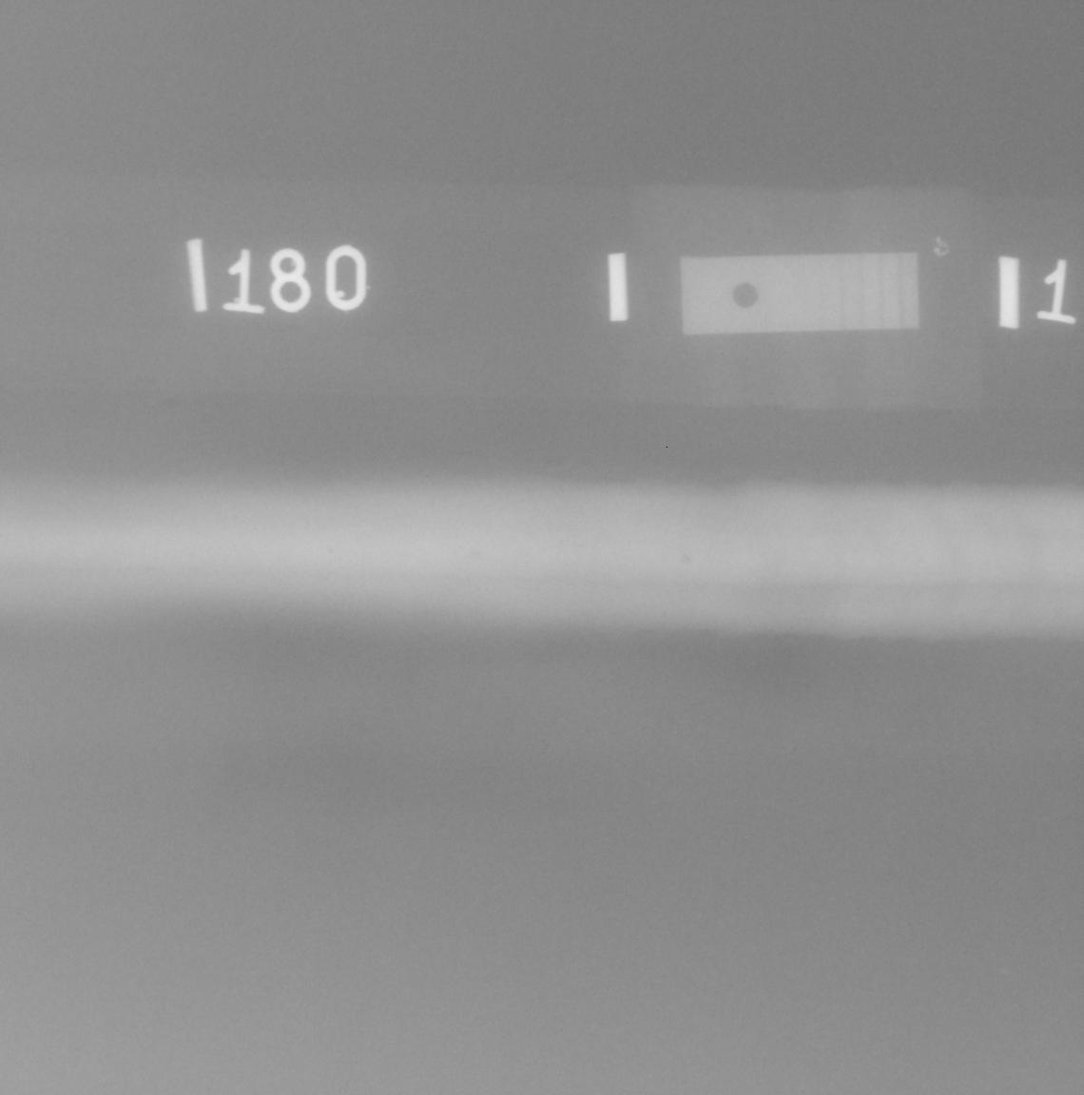Pore/Porosity: (681, 556, 692, 564), (469, 551, 480, 559), (329, 550, 333, 554)
Reference Standard 1: (680, 252, 920, 335)
